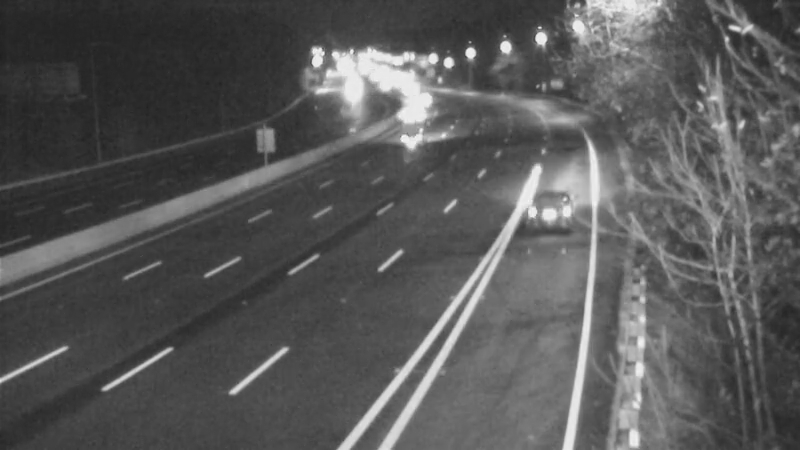vehicle: (507, 161, 587, 241), (397, 77, 447, 127), (384, 84, 434, 134), (389, 116, 439, 166)
